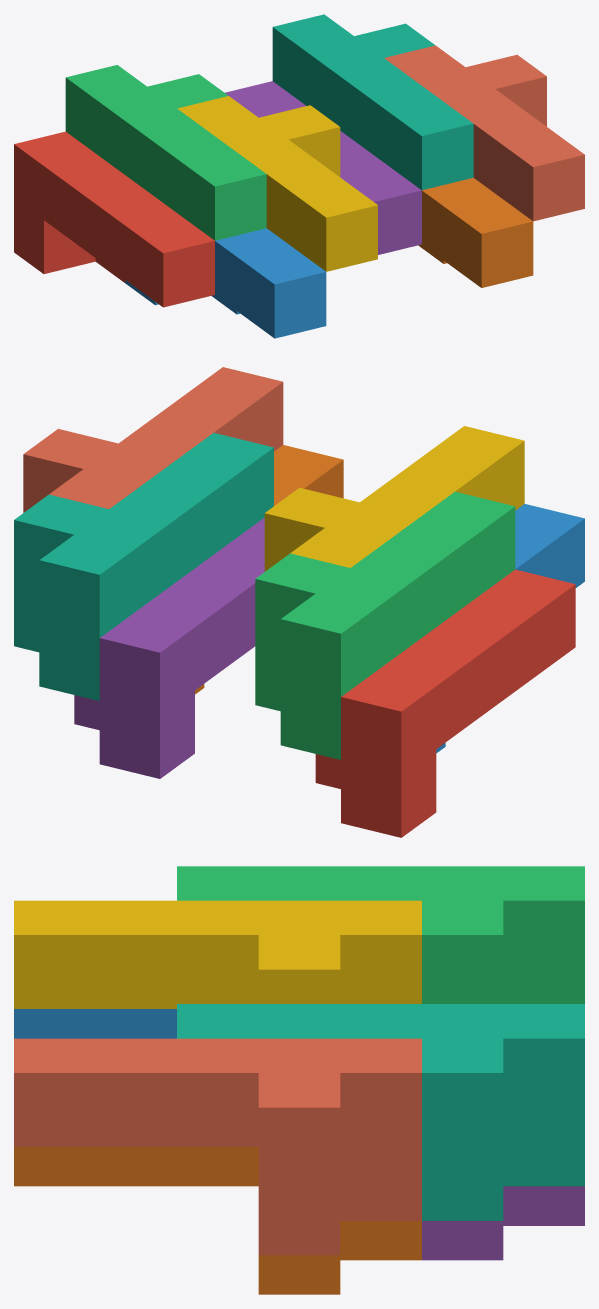
File: tiling.obj
3 renders of one model, top to bottom at view 1: azimuth 30°, elevation 25°; view 2: azimuth 150°, elevation 25°; view 3: azimuth 270°, elevation 25°, orthographic. The views are drawn at different scales.
Visible parts, largest first — view 1: copy_1_domain_1, copy_1_domain_3, copy_1_domain_7, copy_1_domain_4, copy_1_domain_8, copy_1_domain_2, copy_1_domain_6, copy_1_domain_5; view 2: copy_1_domain_3, copy_1_domain_7, copy_1_domain_1, copy_1_domain_5, copy_1_domain_4, copy_1_domain_8, copy_1_domain_2, copy_1_domain_6; view 3: copy_1_domain_8, copy_1_domain_4, copy_1_domain_7, copy_1_domain_3, copy_1_domain_6, copy_1_domain_5, copy_1_domain_2.
Boxes of the visible parts, left/top/right/bottom form: copy_1_domain_1: left=14, top=131, right=214, bottom=307; copy_1_domain_3: left=65, top=65, right=266, bottom=240; copy_1_domain_7: left=272, top=14, right=473, bottom=190; copy_1_domain_4: left=177, top=96, right=377, bottom=271; copy_1_domain_8: left=384, top=45, right=584, bottom=221; copy_1_domain_2: left=125, top=228, right=326, bottom=338; copy_1_domain_6: left=418, top=178, right=533, bottom=287; copy_1_domain_5: left=225, top=81, right=421, bottom=254; copy_1_domain_3: left=255, top=491, right=515, bottom=759; copy_1_domain_7: left=14, top=433, right=273, bottom=700; copy_1_domain_1: left=315, top=569, right=575, bottom=837; copy_1_domain_5: left=74, top=517, right=264, bottom=778; copy_1_domain_4: left=264, top=426, right=524, bottom=571; copy_1_domain_8: left=23, top=367, right=283, bottom=512; copy_1_domain_2: left=436, top=504, right=584, bottom=753; copy_1_domain_6: left=195, top=445, right=343, bottom=694; copy_1_domain_8: left=14, top=1038, right=421, bottom=1255; copy_1_domain_4: left=14, top=900, right=421, bottom=1008; copy_1_domain_7: left=177, top=1004, right=584, bottom=1220; copy_1_domain_3: left=177, top=866, right=584, bottom=1003; copy_1_domain_6: left=14, top=1147, right=421, bottom=1294; copy_1_domain_5: left=422, top=1186, right=584, bottom=1260; copy_1_domain_2: left=14, top=1009, right=176, bottom=1038.
Size of the model in its own units: 8 by 3 by 7.
